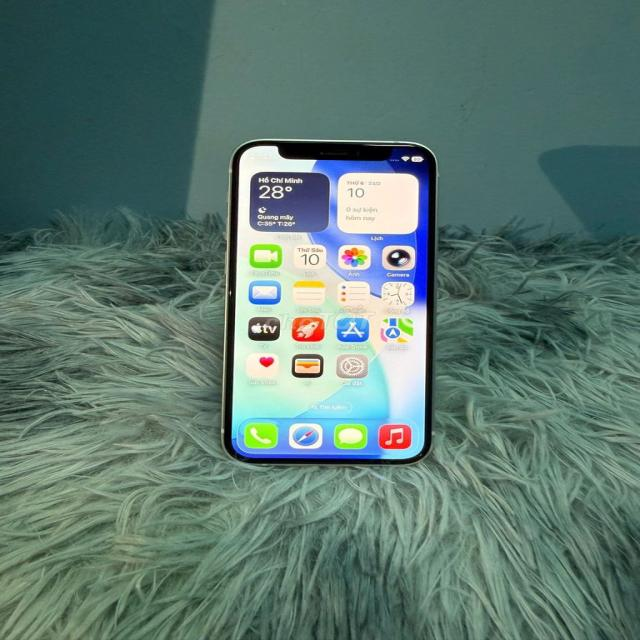gen_12_13: (223, 134, 448, 476)
